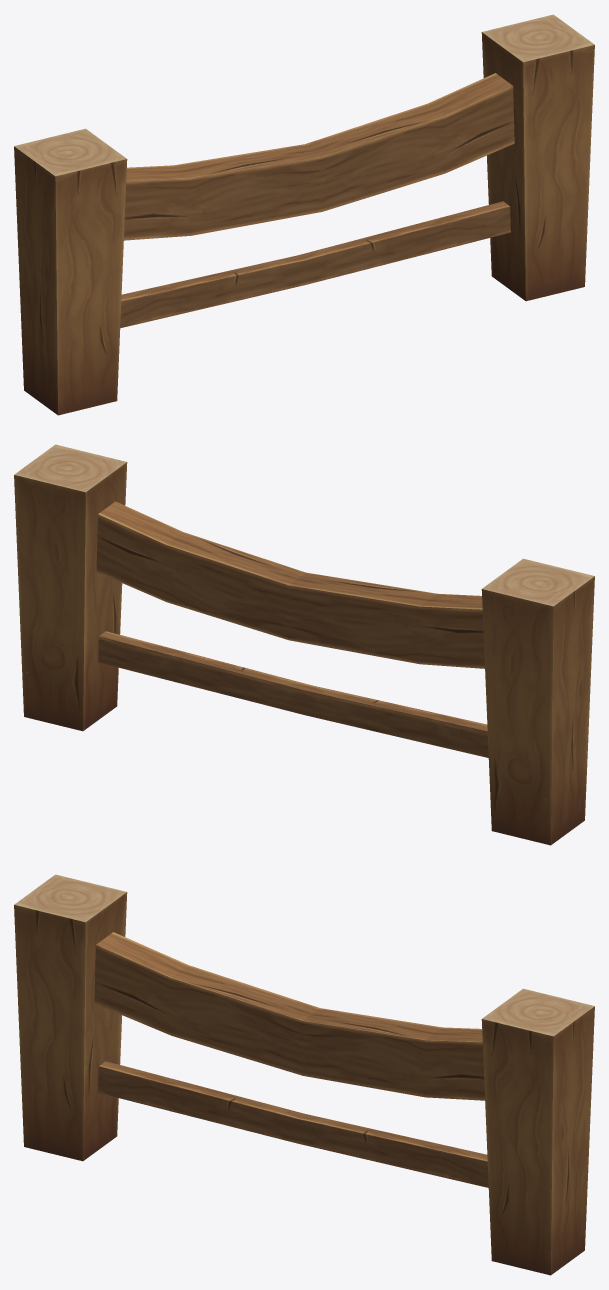
File: wooden_fence_11.fbx
The picture shows the model from 3 angles, top to bottom: view 1: azimuth 30°, elevation 25°; view 2: azimuth 150°, elevation 25°; view 3: azimuth 330°, elevation 25°; orthographic projection.
Parts seen in each view (by area): view 1: wooden_fence_11:Mesh; view 2: wooden_fence_11:Mesh; view 3: wooden_fence_11:Mesh.
Part boxes in pixels (left/top/right/bottom): wooden_fence_11:Mesh: left=14, top=14, right=594, bottom=415; wooden_fence_11:Mesh: left=14, top=444, right=594, bottom=845; wooden_fence_11:Mesh: left=14, top=874, right=594, bottom=1275.
Size of the model in its own units: 6.26 by 2.7 by 0.8325.
